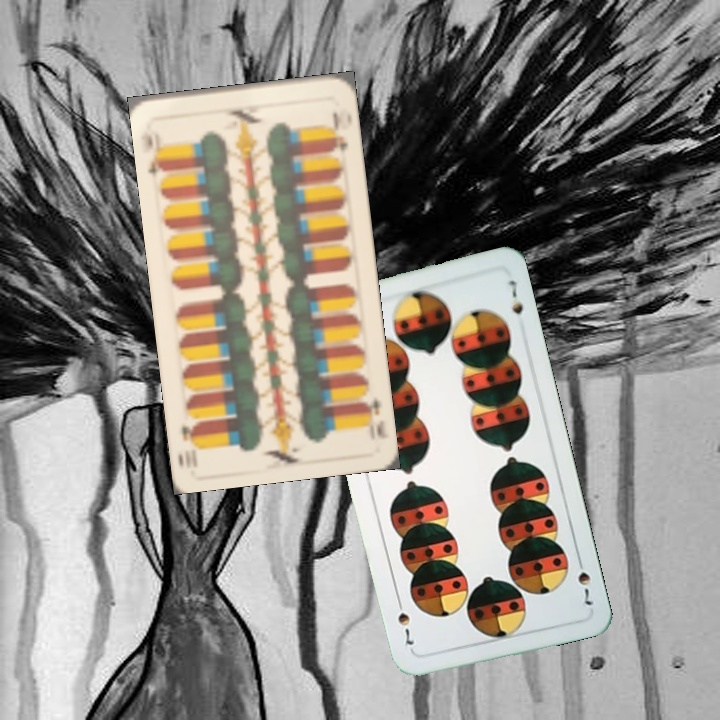E10: (138, 119, 170, 179), (357, 394, 388, 442)
S7: (573, 552, 595, 608)
